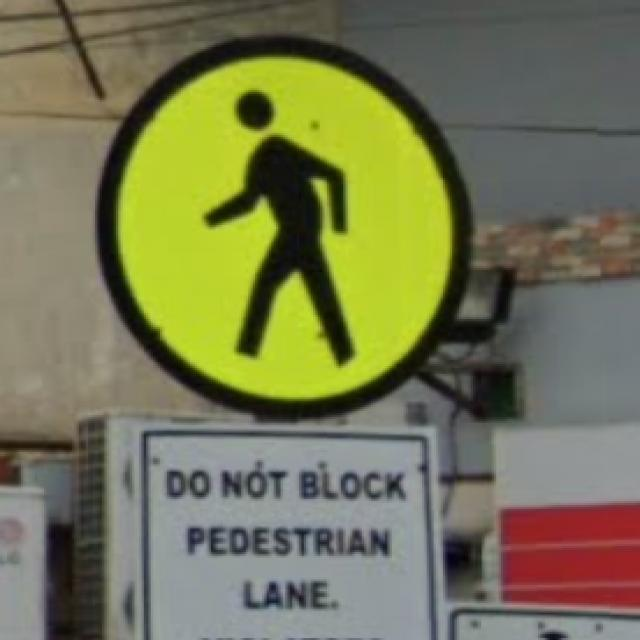pedestrian crossing: (93, 35, 473, 419)
